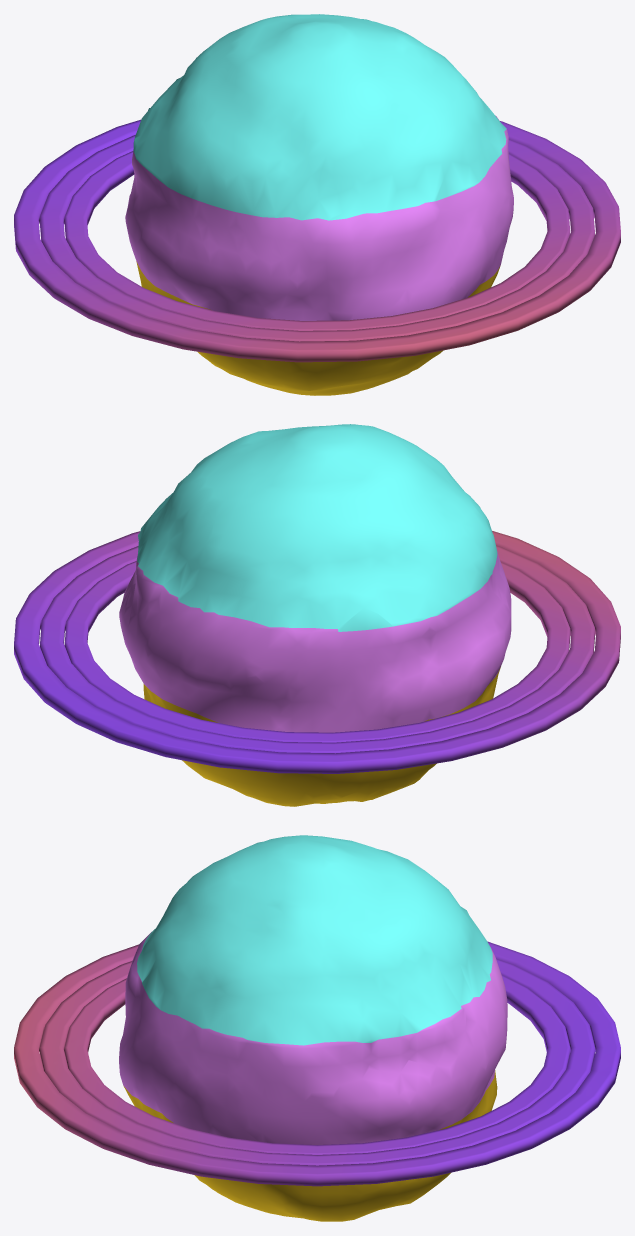
The model's file is Planet_V3.fbx.
3 views of the same model, one above another, from view 1: azimuth 30°, elevation 25°; view 2: azimuth 150°, elevation 25°; view 3: azimuth 270°, elevation 25° (orthographic).
Parts seen in each view (by area): view 1: Planet_V3; view 2: Planet_V3; view 3: Planet_V3.
Part boxes in pixels (box(x1,y1,x2,y2)): Planet_V3: box(14, 14, 620, 395); Planet_V3: box(14, 424, 620, 806); Planet_V3: box(14, 835, 620, 1221).
Bounding box in the file's own units: 2319 × 1463 × 2319.
